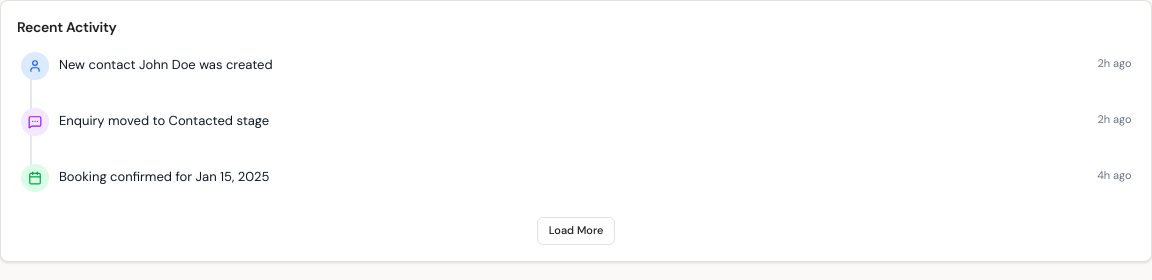
Scenario: ActivityFeed › load more functionality › should show loading state while fetching more
The image size is (1152, 280).
# Click Load More
Click the button "Load More".
click(576, 230)  # box [537,216,615,244]
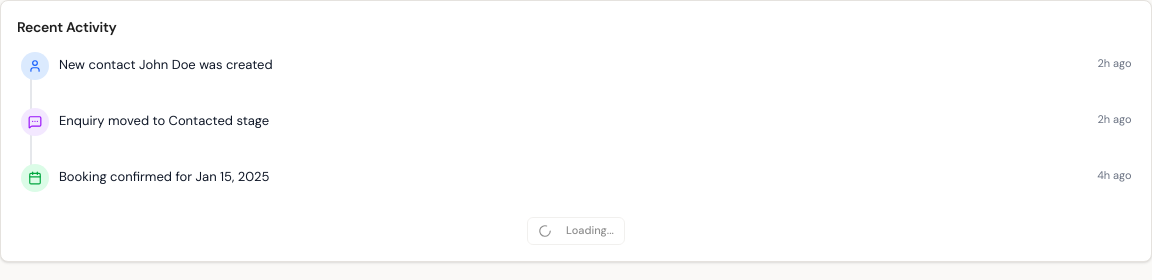
Now the button "Loading..." is shown, box [526,216,626,244]
Now the icon with class "animate-spin" is shown, box [538,224,552,238]
